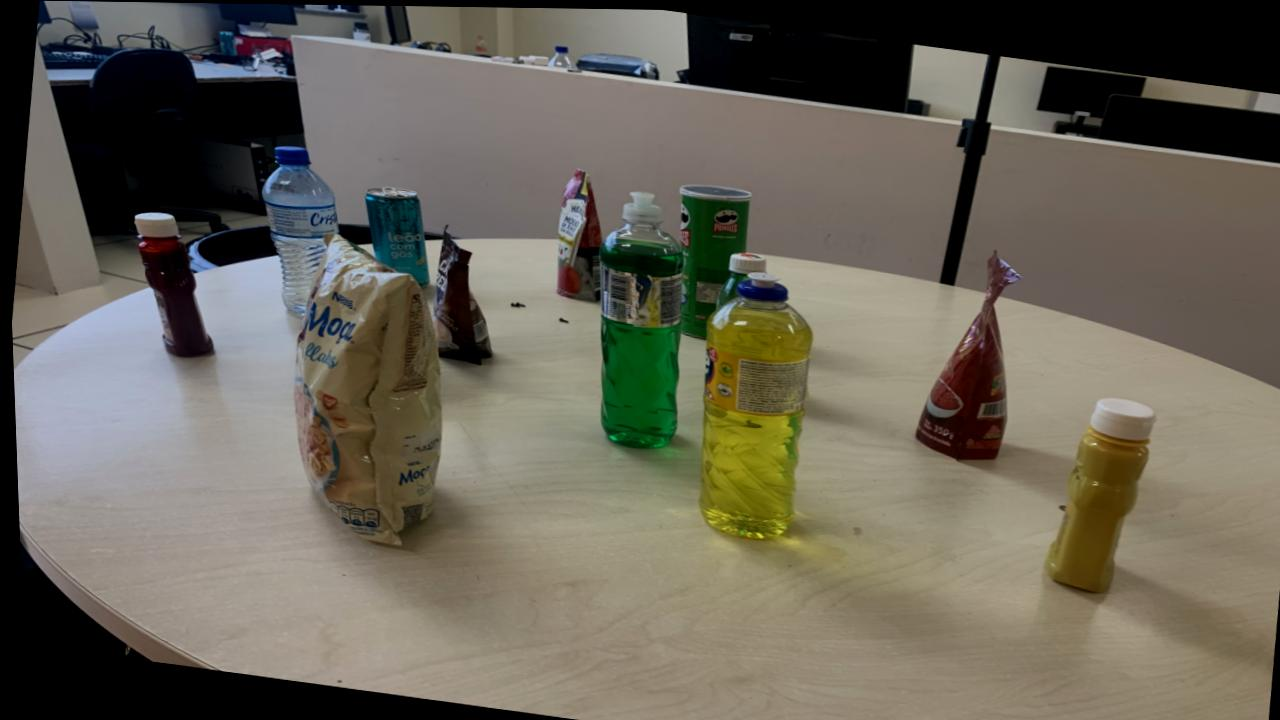Coffee-Pantry_Items: (430, 230, 489, 363)
Detergent-Cleanup_Items: (695, 270, 810, 536), (598, 190, 682, 447)
Flakes-Snacks: (289, 234, 439, 544)
Guarana-Drinks: (714, 250, 764, 307)
Ketchup-Pantry_Items: (132, 212, 211, 357)
Mustard-Pantry_Items: (1041, 394, 1153, 589)
Pringles-Snacks: (676, 183, 750, 336)
Tea-Drinks: (363, 185, 428, 284)
Tomato_Sauce-Pantry_Items: (912, 250, 1017, 458), (554, 168, 600, 299)
Water_Bottle-Drinks: (260, 146, 336, 314)
